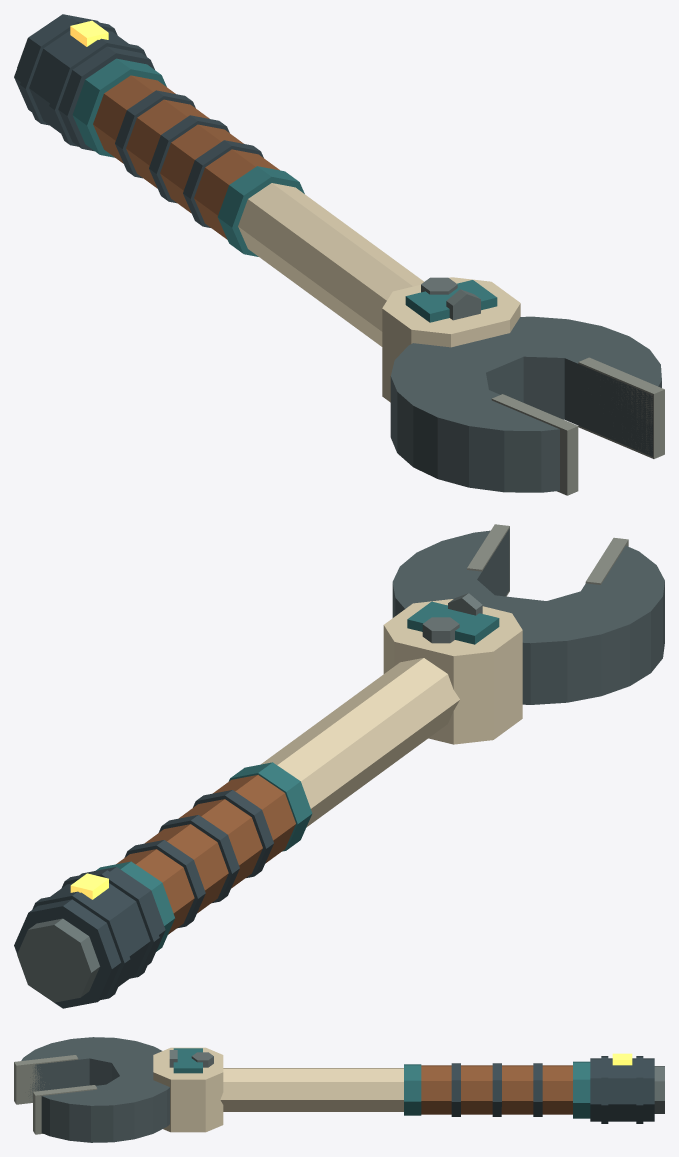
Rendered from wrench.glb.
The picture shows the model from 3 angles, top to bottom: view 1: azimuth 30°, elevation 25°; view 2: azimuth 150°, elevation 25°; view 3: azimuth 270°, elevation 25°; orthographic projection. The views are drawn at different scales.
Parts seen in each view (by area): view 1: Tool wrench Tool head steel, Tool wrench Tool shell cream, Tool wrench Tool socket iron, Tool wrench Tool grip wrap, Tool wrench Tool workshop teal, Tool wrench Tool honed edge, Tool wrench Tool bright steel; view 2: Tool wrench Tool shell cream, Tool wrench Tool head steel, Tool wrench Tool socket iron, Tool wrench Tool grip wrap, Tool wrench Tool bright steel, Tool wrench Tool workshop teal, Tool wrench Tool honed edge; view 3: Tool wrench Tool shell cream, Tool wrench Tool head steel, Tool wrench Tool grip wrap, Tool wrench Tool socket iron, Tool wrench Tool workshop teal, Tool wrench Tool honed edge, Tool wrench Tool bright steel, Tool wrench Tool status light.
Part boxes in pixels (<box>): Tool wrench Tool head steel: <box>390,316,661,492</box>; Tool wrench Tool shell cream: <box>238,183,520,402</box>; Tool wrench Tool socket iron: <box>14,14,263,227</box>; Tool wrench Tool grip wrap: <box>93,75,279,239</box>; Tool wrench Tool workshop teal: <box>72,58,497,322</box>; Tool wrench Tool honed edge: <box>491,357,664,495</box>; Tool wrench Tool bright steel: <box>17,38,480,320</box>; Tool wrench Tool shell cream: <box>261,599,522,827</box>; Tool wrench Tool head steel: <box>392,528,664,704</box>; Tool wrench Tool socket iron: <box>14,790,273,1008</box>; Tool wrench Tool grip wrap: <box>116,775,295,934</box>; Tool wrench Tool bright steel: <box>17,593,482,1002</box>; Tool wrench Tool workshop teal: <box>96,601,499,951</box>; Tool wrench Tool honed edge: <box>467,524,628,596</box>; Tool wrench Tool shell cream: <box>153,1047,403,1132</box>; Tool wrench Tool head steel: <box>21,1037,169,1142</box>; Tool wrench Tool grip wrap: <box>421,1065,572,1114</box>; Tool wrench Tool socket iron: <box>451,1056,654,1123</box>; Tool wrench Tool workshop teal: <box>173,1048,590,1118</box>; Tool wrench Tool honed edge: <box>14,1055,97,1134</box>; Tool wrench Tool bright steel: <box>169,1050,664,1113</box>; Tool wrench Tool status light: <box>612,1053,632,1065</box>.
Bounding box in the file's own units: 0.15 × 0.0741 × 0.6.
